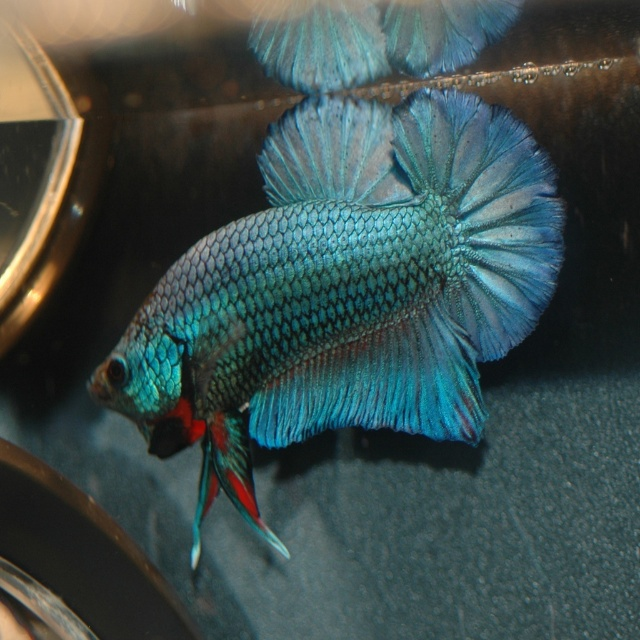Fish: (88, 71, 584, 577)
